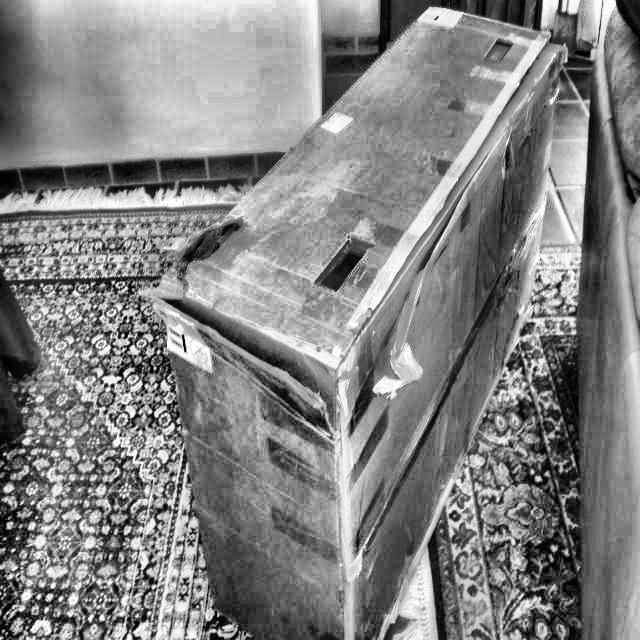box: (139, 0, 573, 639)
hole: (170, 217, 244, 280)
